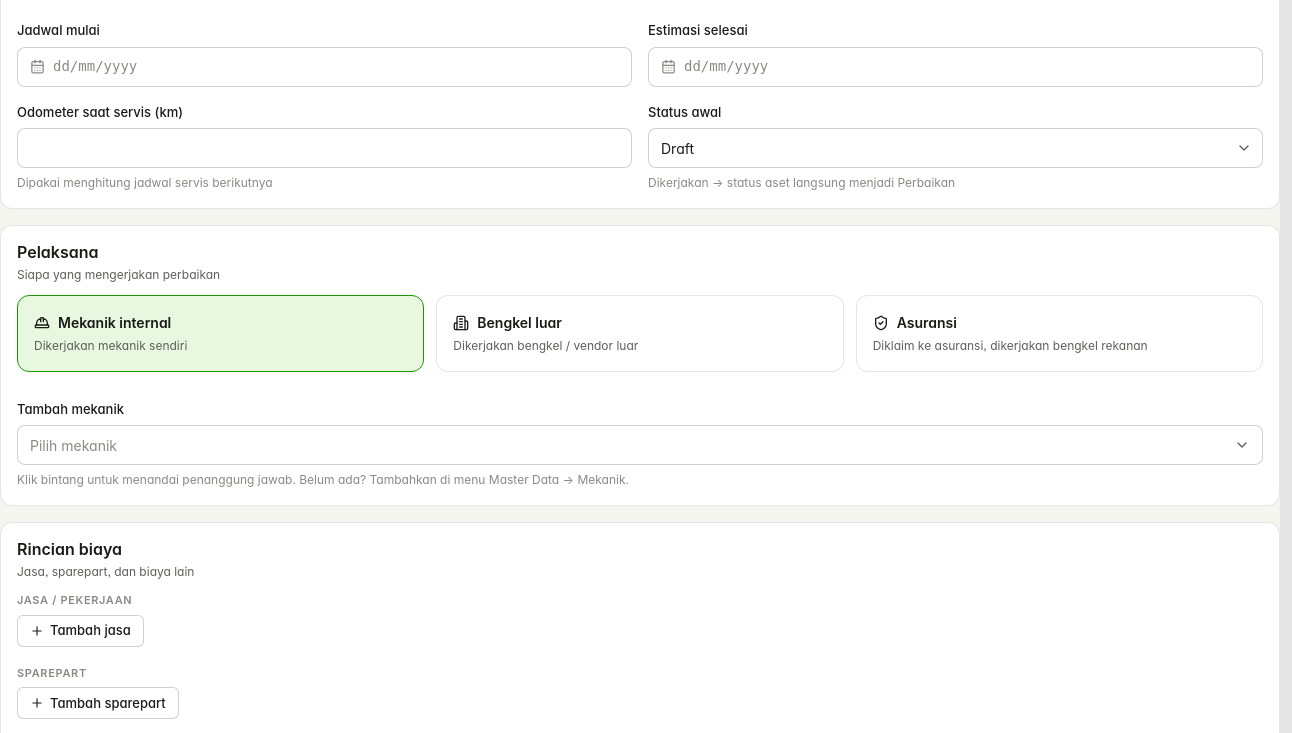
PerintahKerjaForm › dengan polis berlaku: Asuransi bisa dipilih dan isian klaim muncul
This screenshot has width=1292, height=733.
(page scrolled)
Click the radio button labelled "Asuransi Diklaim ke asuransi, dikerjakan bengkel rekanan".
click(927, 323)  # box [856,296,1263,372]
(page scrolled)
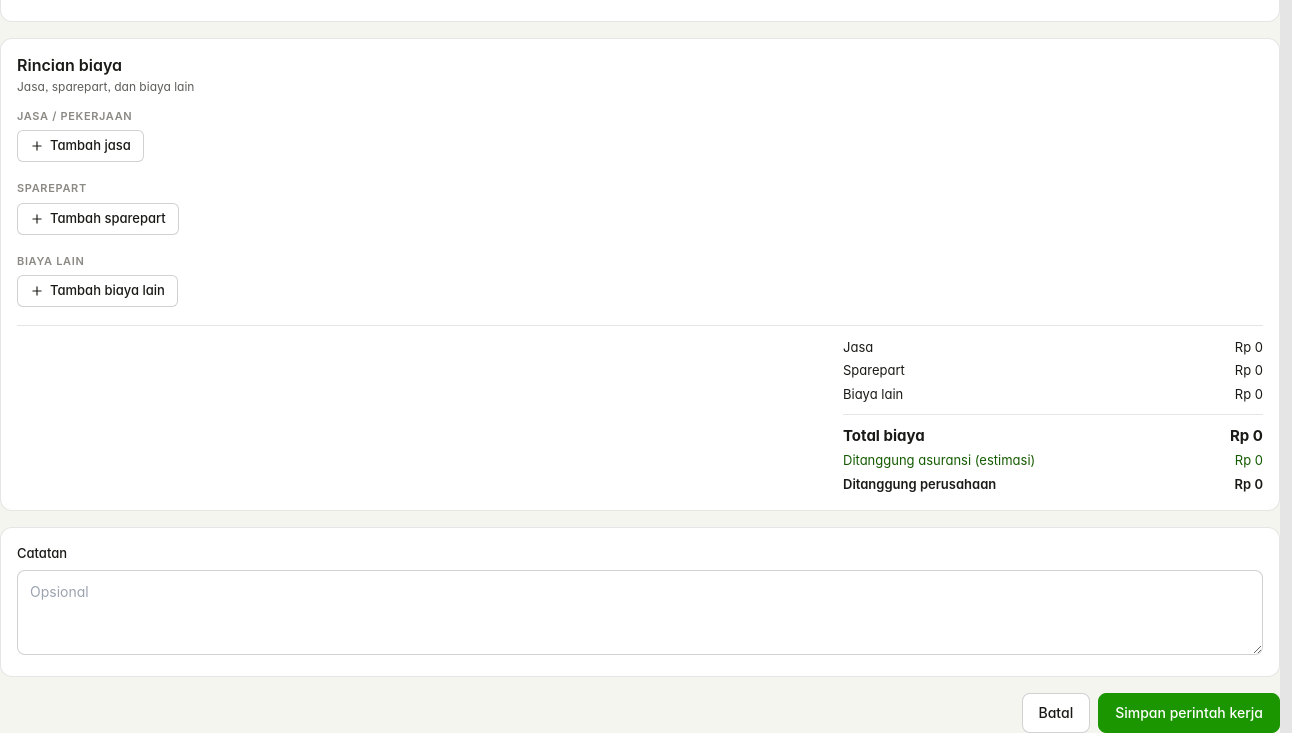
Check: the text "Ditanggung perusahaan" is shown, box [843,475,996,494]
